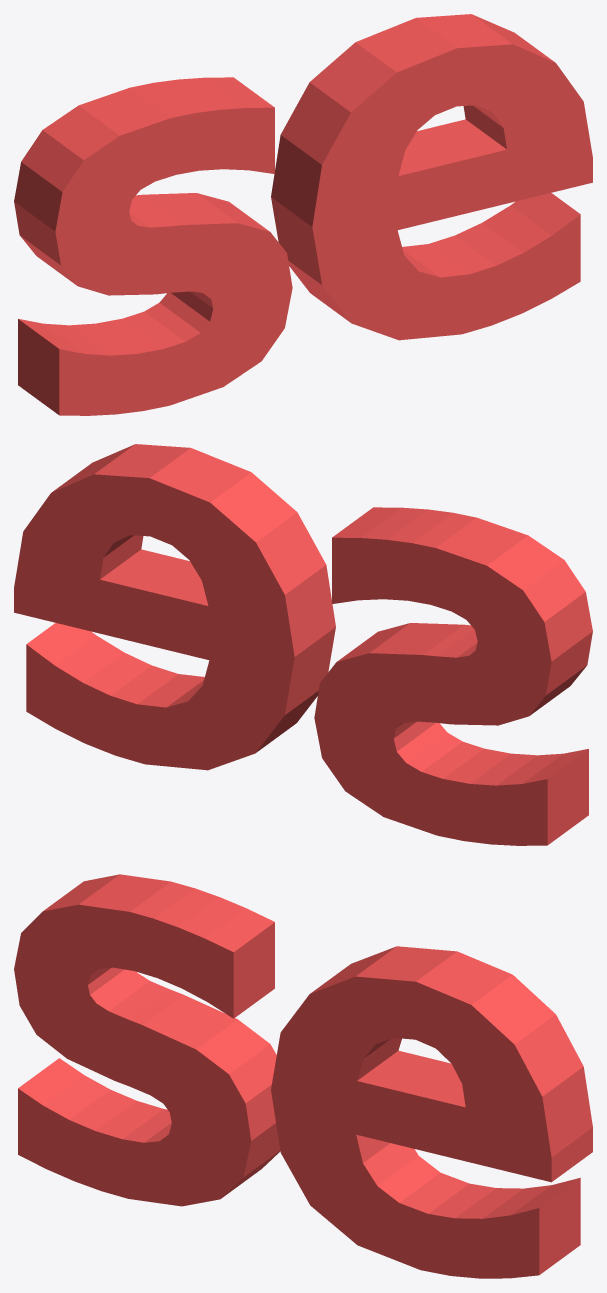
Rendered from suku_kecil_se.glb.
3 views of the same model, one above another, from view 1: azimuth 30°, elevation 25°; view 2: azimuth 150°, elevation 25°; view 3: azimuth 330°, elevation 25° (orthographic).
Parts seen in each view (by area): view 1: geometry_0; view 2: geometry_0; view 3: geometry_0.
Boxes of the visible parts, <box> form: geometry_0: <box>14,14,592,415</box>; geometry_0: <box>14,444,592,845</box>; geometry_0: <box>14,874,592,1278</box>.
Size of the model in its own units: 11.24 by 5.74 by 1.5.
